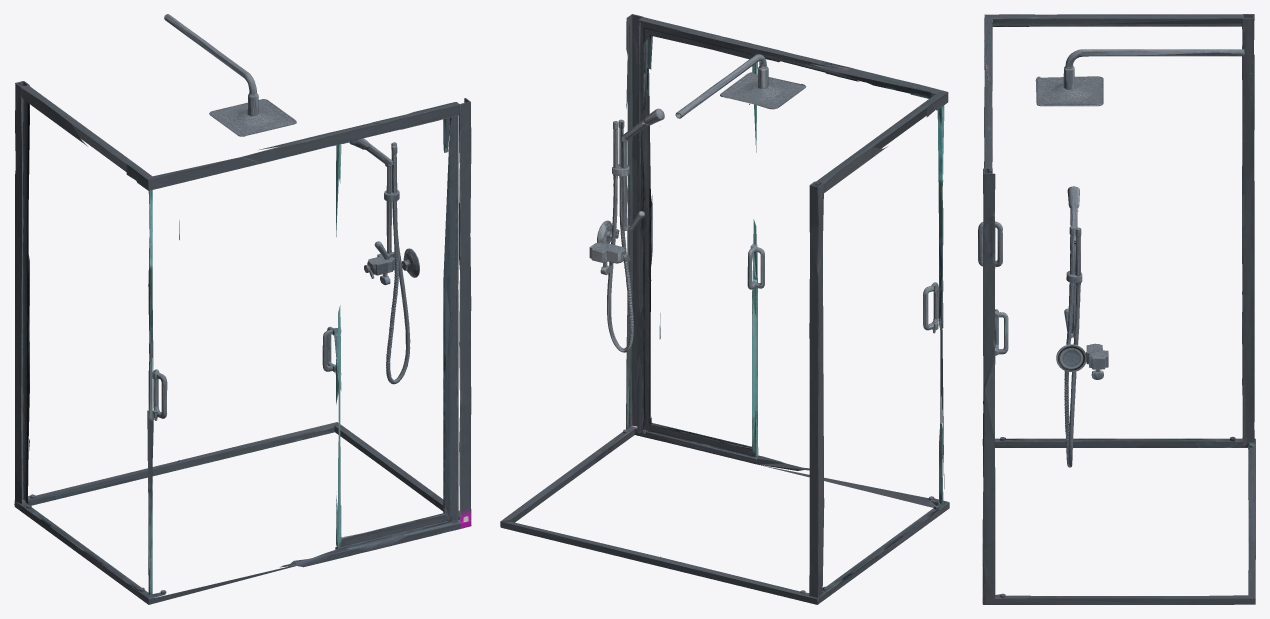
File: shower.glb
3 views of the same model, side by side, from view 1: azimuth 30°, elevation 25°; view 2: azimuth 150°, elevation 25°; view 3: azimuth 270°, elevation 25° (orthographic). The views are drawn at different scales.
Bounding box in the file's own units: 1.39 × 1.89 × 1.02.
1 material, 1 textured.
